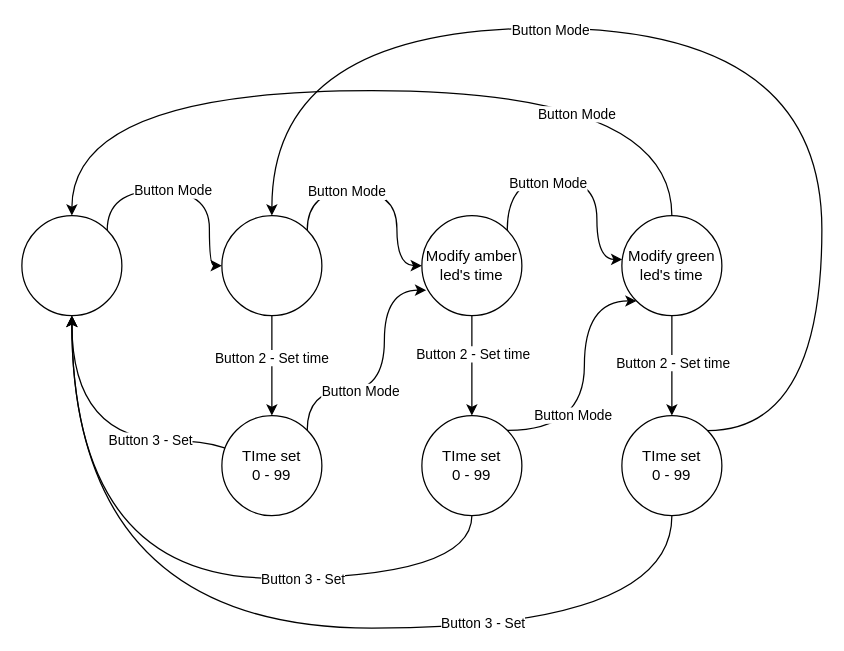
Image size: 844x651. Some labels were removed from this diagram. The box of each missing label's shape, as (x1, y1, x2, y2) in pixels:
Modify red led's time: (221, 214, 322, 316)
Normal mode: (21, 214, 122, 316)
